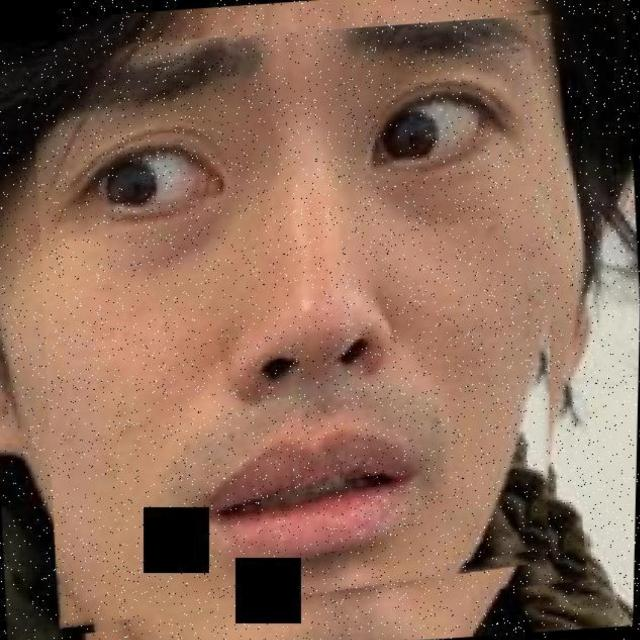Sad: (42, 41, 538, 603)
